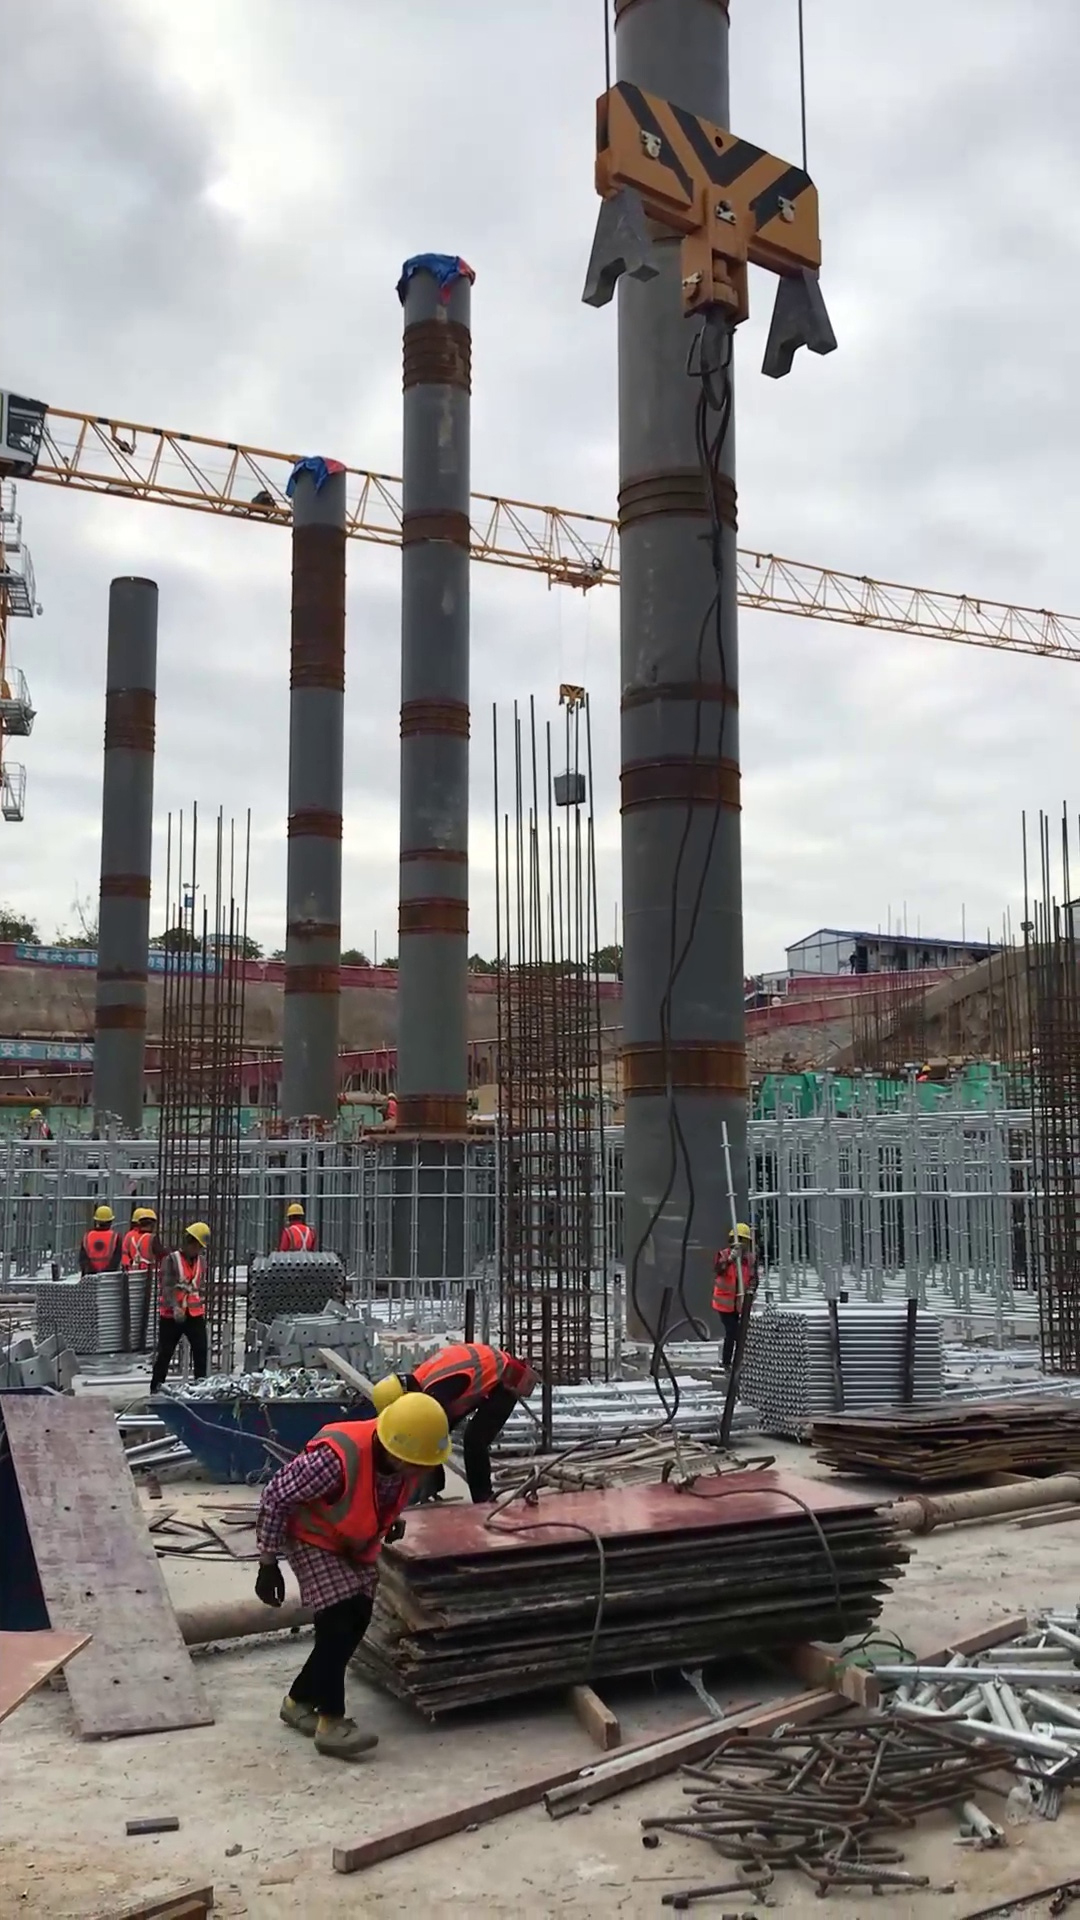board: (345, 1448, 926, 1741), (795, 1384, 1080, 1516)
helmet: (376, 1394, 454, 1472), (368, 1369, 400, 1424), (183, 1219, 217, 1251), (87, 1200, 119, 1229), (126, 1206, 157, 1231), (728, 1222, 754, 1249), (282, 1199, 308, 1225)
hook: (566, 75, 845, 448), (559, 679, 595, 720)
hopper: (168, 1387, 349, 1475)
person: (246, 1388, 467, 1771), (365, 1340, 543, 1511), (143, 1219, 218, 1404), (707, 1221, 767, 1369), (78, 1199, 124, 1279), (128, 1201, 162, 1275), (274, 1200, 317, 1258)
scaffold: (747, 1287, 959, 1439), (28, 1269, 147, 1364), (246, 1246, 353, 1324)
slogan: (1, 1040, 100, 1063), (14, 943, 105, 967)
vest: (285, 1421, 411, 1569), (405, 1342, 524, 1403), (157, 1253, 210, 1325), (710, 1256, 760, 1321), (79, 1228, 121, 1272), (282, 1222, 312, 1257), (128, 1231, 155, 1269)
